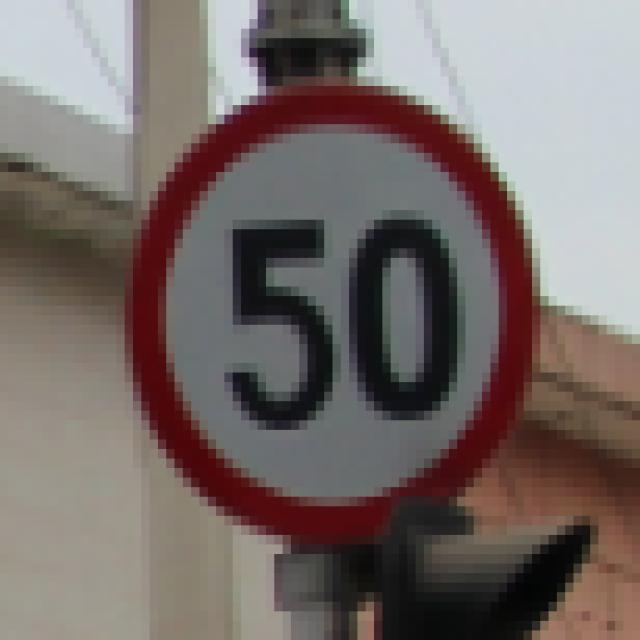Limite-50: (124, 79, 539, 548)
